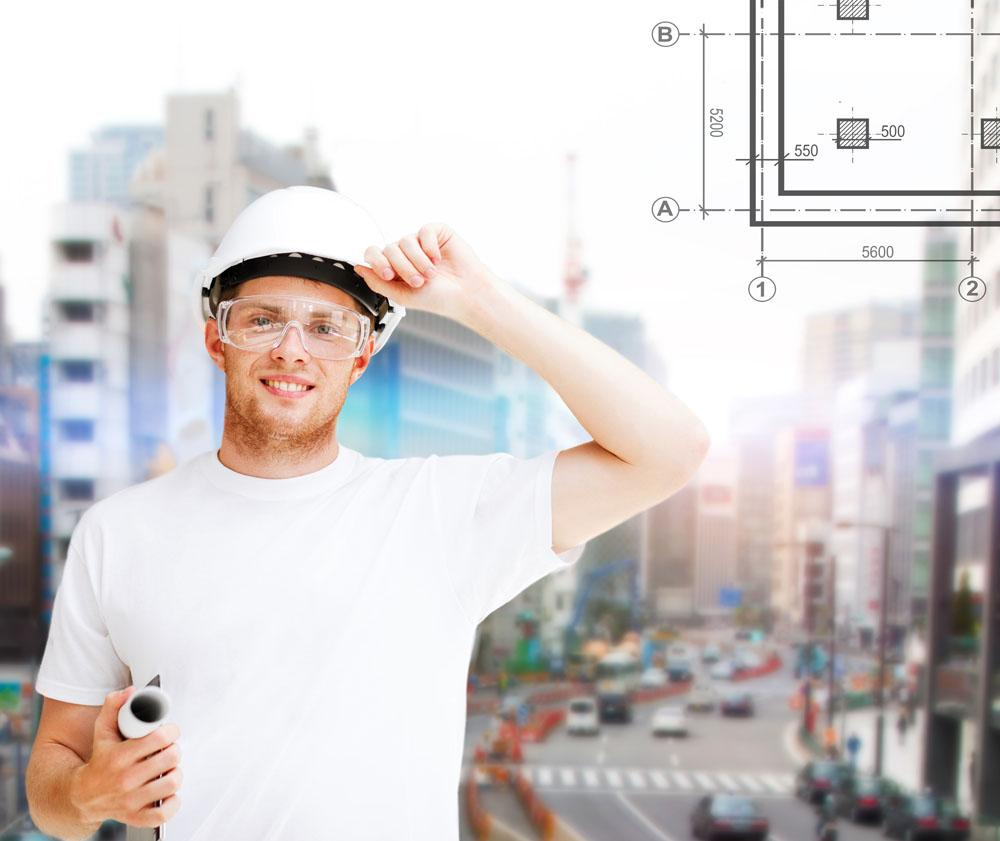helmet: (191, 187, 403, 292)
